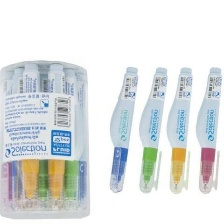correction_fluid: (105, 65, 140, 196), (135, 66, 170, 196), (192, 65, 224, 195), (165, 66, 195, 198), (60, 68, 87, 210), (17, 62, 43, 209), (8, 66, 29, 211), (45, 62, 65, 210), (71, 70, 88, 212), (36, 67, 52, 209), (0, 70, 15, 211)
plastic_box: (0, 58, 91, 221)
